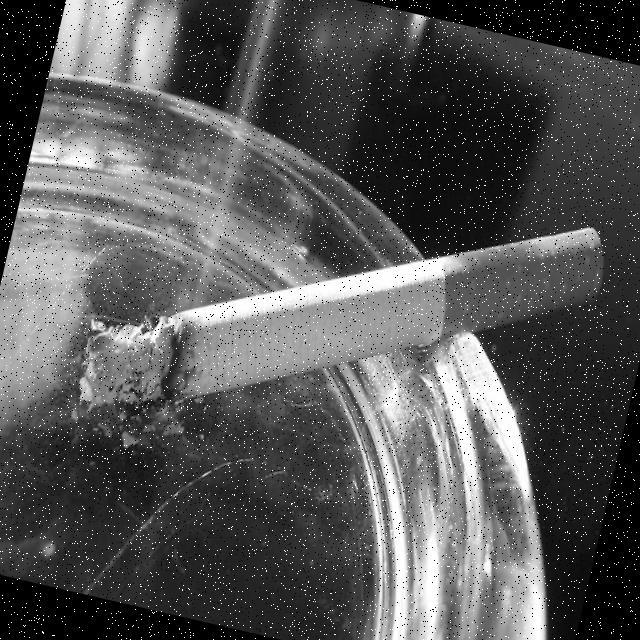cigarette: (57, 98, 619, 534)
